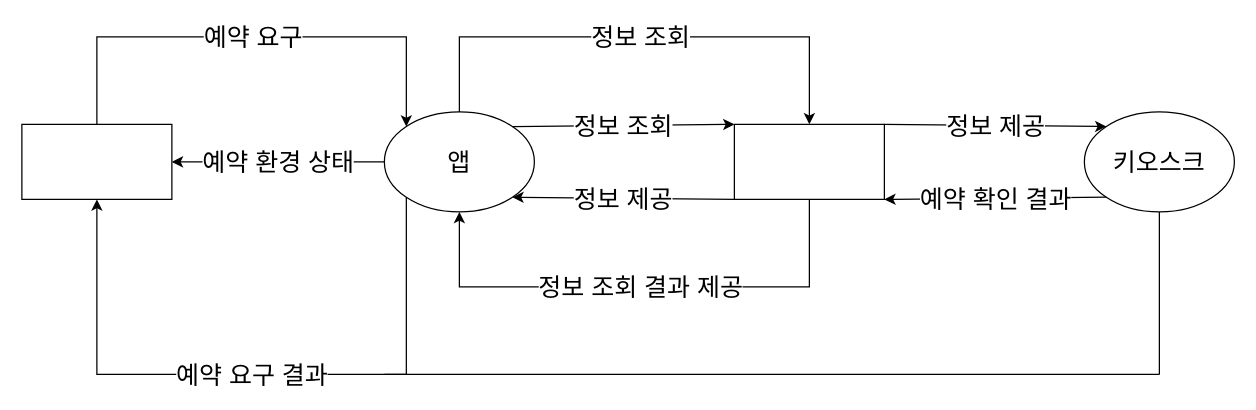
The diagram is 1256 pixels wide and 410 high, and some of its shapes have lost their labels. Each missing label, with the box of its shape:
시스템: (733, 123, 884, 199)
이용자: (21, 123, 172, 199)
